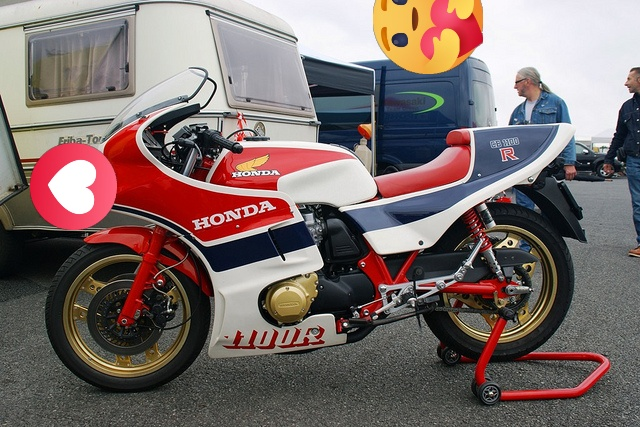care: (373, 0, 483, 74)
love: (30, 143, 117, 230)
